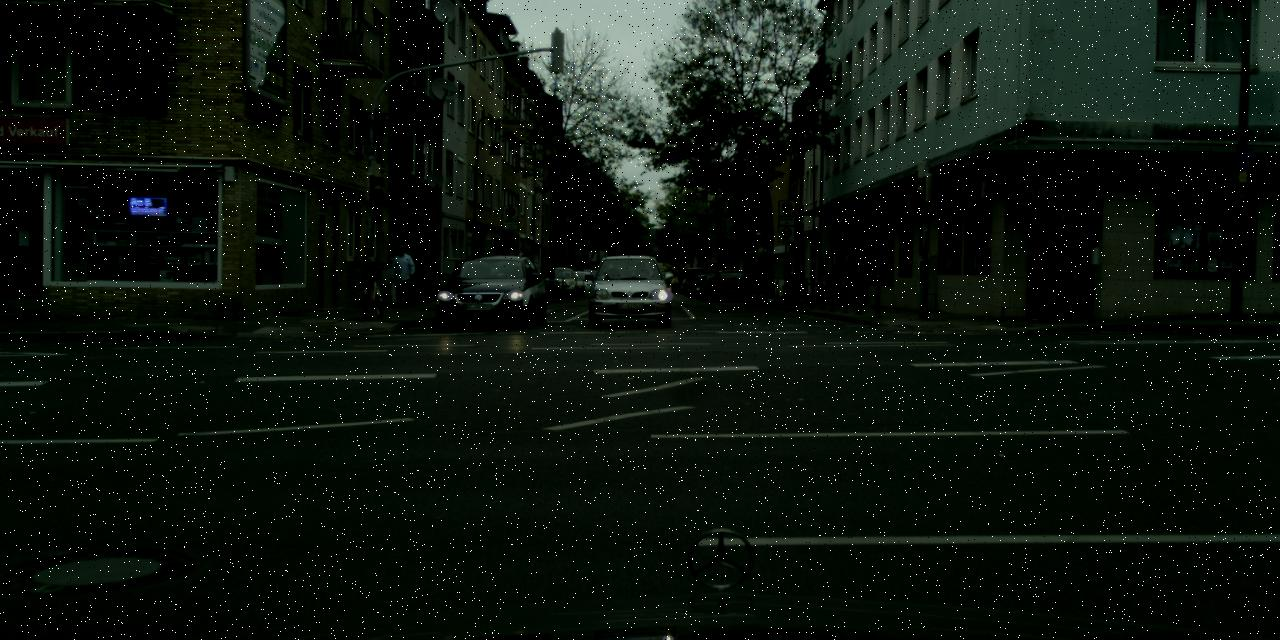ped: (389, 244, 415, 307)
